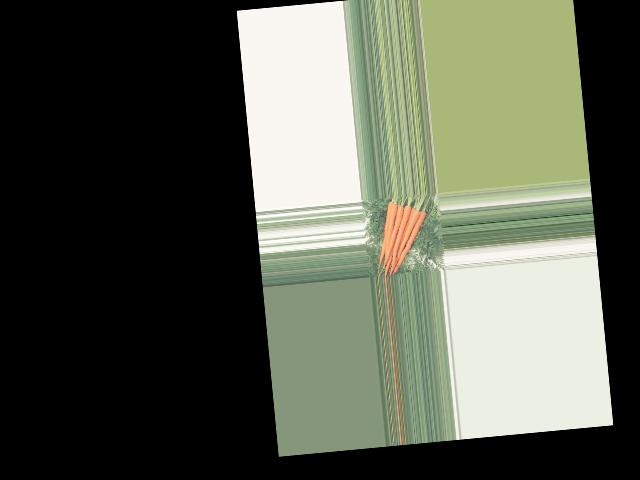carrot: (369, 199, 403, 273)
